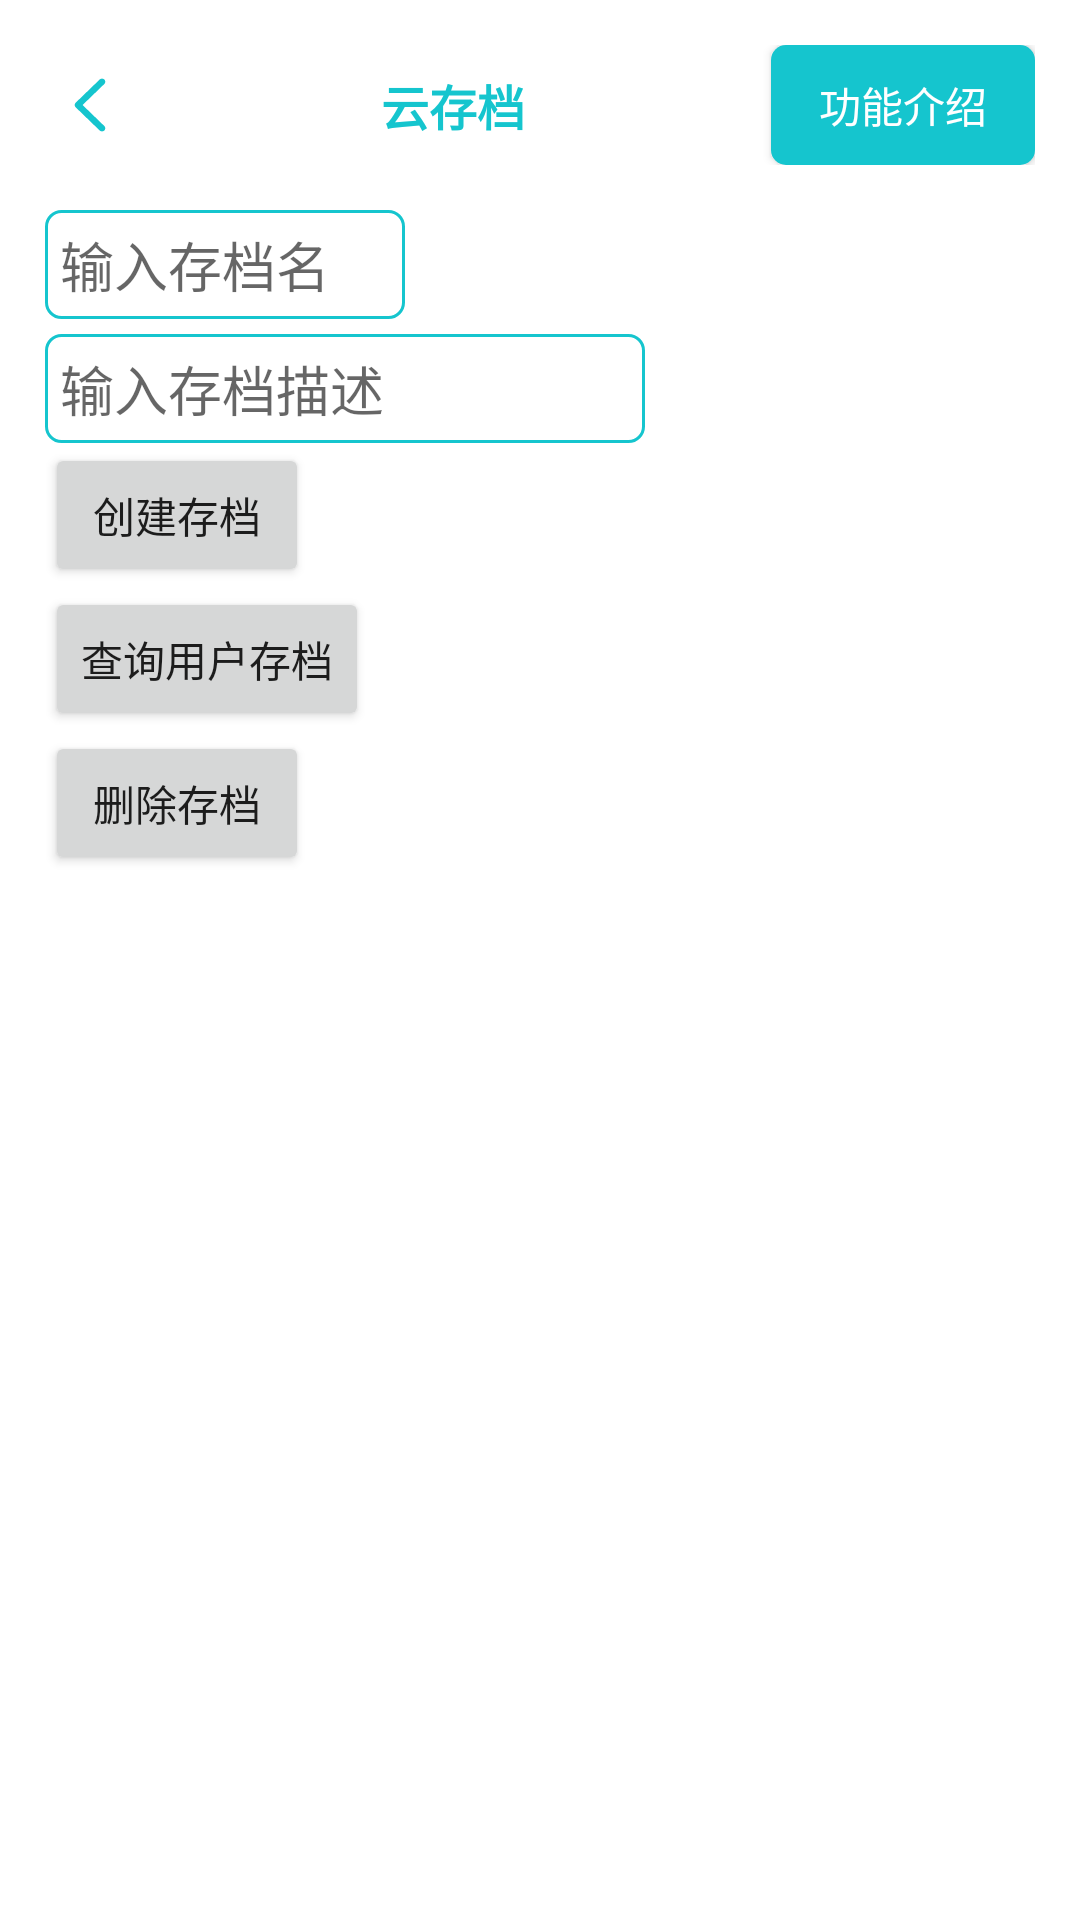

Screen size 1080×1920. Icon name, then its box in pixels as detection(x1, y1, x2, y2):
back: detection(74, 78, 106, 132)
